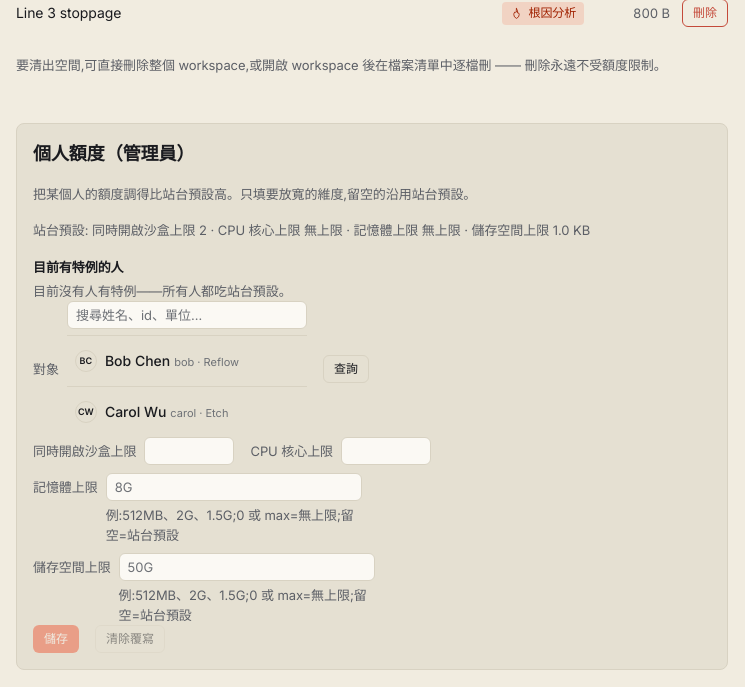
Test: per-person overrides (superuser) › lets a superuser raise one person, and says it needs no restart
(page scrolled)
Click the button "BC Bob Chen bob · Reflow". click: {"x": 187, "y": 361}
box: [67,344,307,378]
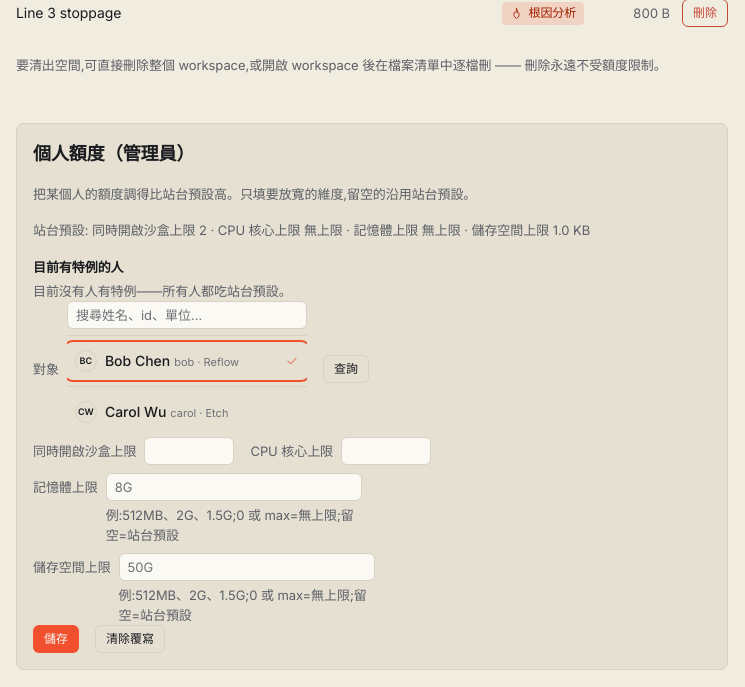
Type "5" into the number field labelled "同時開啟沙盒上限". click: {"x": 190, "y": 451}
box: [144,437,234,465]
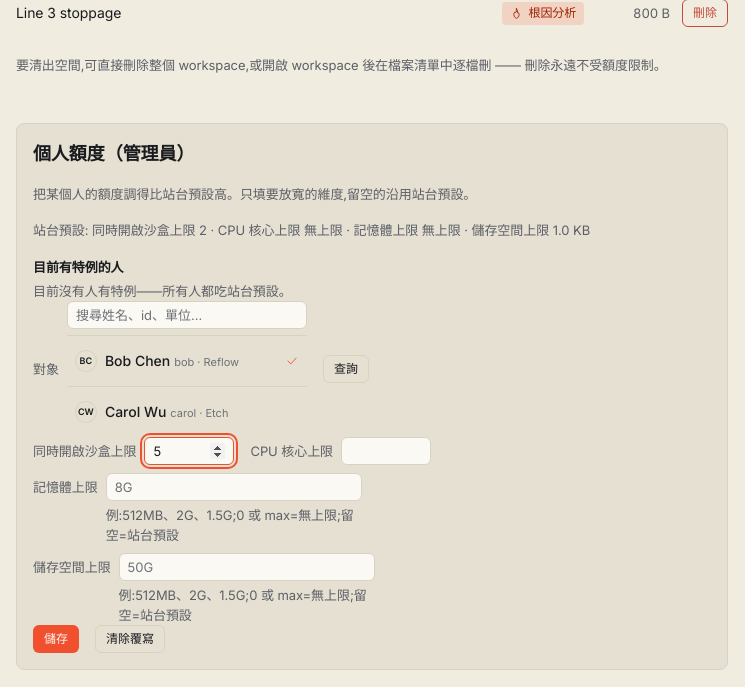
Click the button "儲存". click: {"x": 56, "y": 639}
box: [33,625,79,653]
(page scrolled)
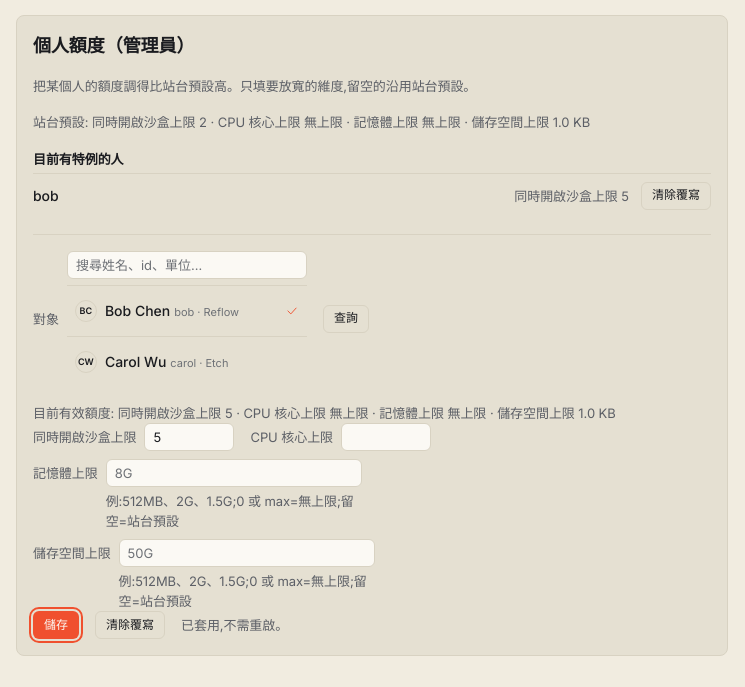
Expected: the text "已套用,不需重啟。" is shown, [181,615,288,635]
